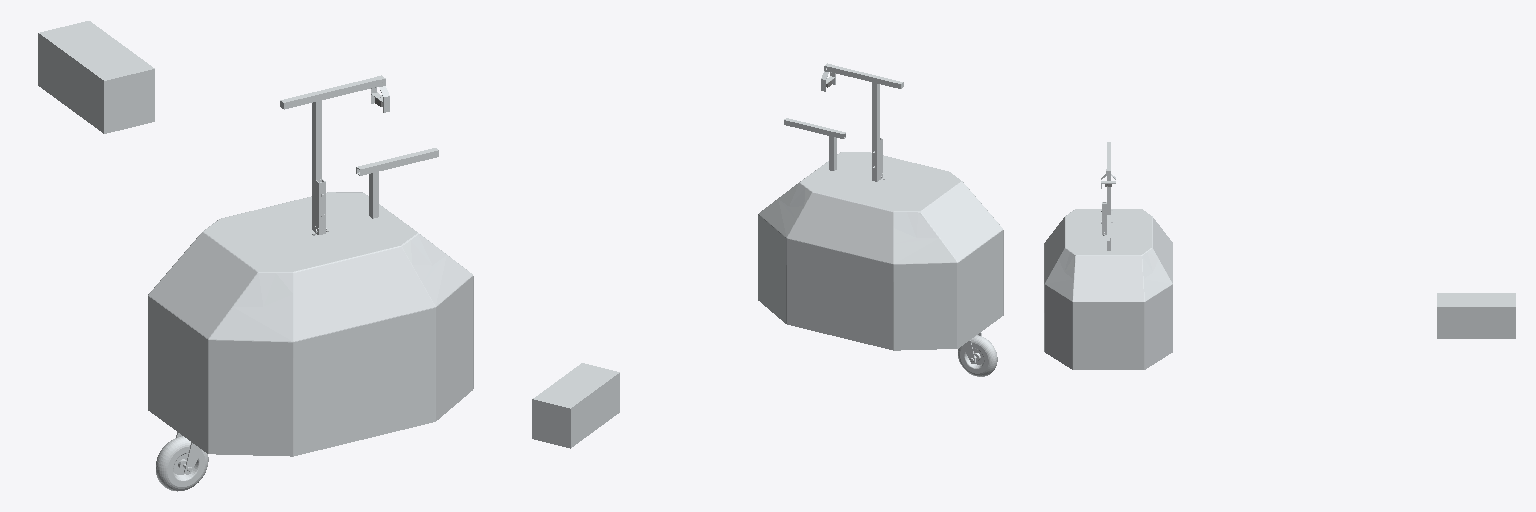
The robot description file, URDF, robot "Enterprise2":
<robot
  name="Enterprise2">
  <link
    name="base_link">
    <inertial>
      <origin
        xyz="0.00290116420774065 0.0433757838197974 0.171677136873843"
        rpy="0 0 0" />
      <mass
        value="519.878713579077" />
      <inertia
        ixx="83.1699805194045"
        ixy="8.50291213127822"
        ixz="0.87629234599188"
        iyy="55.2322608360111"
        iyz="-0.388567691205053"
        izz="103.789271563977" />
    </inertial>
    <visual>
      <origin
        xyz="0 0 0"
        rpy="0 0 0" />
      <geometry>
        <mesh
          filename="package://mst_control/urdf/meshes/base_link.STL" />
      </geometry>
      <material
        name="">
        <color
          rgba="0.898039215686275 0.917647058823529 0.929411764705882 1" />
      </material>
    </visual>
    <collision>
      <origin
        xyz="0 0 0"
        rpy="0 0 0" />
      <geometry>
        <mesh
          filename="package://mst_control/urdf/meshes/base_link.STL" />
      </geometry>
    </collision>
  </link>
  <link
    name="Camera">
    <inertial>
      <origin
        xyz="-1.17081790270042E-15 -3.56686522134941E-05 0.0104399684105121"
        rpy="0 0 0" />
      <mass
        value="0.019869688853429" />
      <inertia
        ixx="1.7830597271236E-06"
        ixy="9.41612436036192E-22"
        ixz="-2.04225603299965E-22"
        iyy="3.030215810549E-06"
        iyz="6.48461006234025E-10"
        izz="3.28236130645933E-06" />
    </inertial>
    <visual>
      <origin
        xyz="0 0 0"
        rpy="0 0 0" />
      <geometry>
        <mesh
          filename="package://enterprise_description/meshes/Camera.STL" />
      </geometry>
      <material
        name="">
        <color
          rgba="0.6 0.6 0.6 1" />
      </material>
    </visual>
    <collision>
      <origin
        xyz="0 0 0"
        rpy="0 0 0" />
      <geometry>
        <mesh
          filename="package://mst_control/urdf/meshes/Camera.STL" />
      </geometry>
    </collision>
  </link>
  <joint
    name="Camera"
    type="fixed">
    <origin
      xyz="0.26987 0 0.95193"
      rpy="1.5708 6.123E-17 1.5708" />
    <parent
      link="base_link" />
    <child
      link="Camera" />
    <axis
      xyz="0 0 0" />
  </joint>
</robot>

--- What the picture shows (computed from the rendered views, not written in the file) ---
Views: 3 orthographic renders of the robot side by side, from view 1: azimuth 30°, elevation 25°; view 2: azimuth 150°, elevation 25°; view 3: azimuth 270°, elevation 25°.
Model Enterprise2 with 2 links and 1 joints (1 fixed), rooted at base_link, posed every joint at zero.
Links seen in each view (by area): view 1: base_link; view 2: base_link; view 3: base_link.
Boxes of the visible links, box(x1,y1,x2,y2) form: base_link: box(38, 21, 473, 491); base_link: box(532, 63, 1003, 448); base_link: box(1044, 142, 1515, 369).
Size in the robot's own frame: 1.15 by 2.75 by 1.39 metres.
2 mesh visuals loaded from 2 distinct referenced files (2 binary STL).